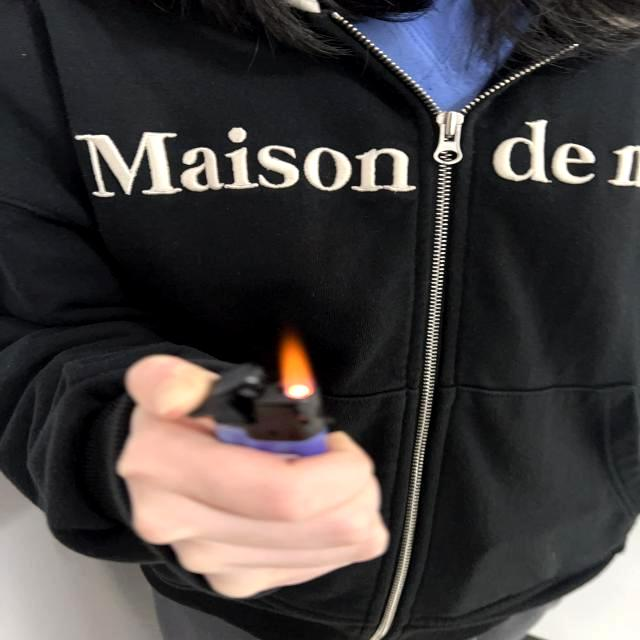fire: (279, 329, 317, 401)
